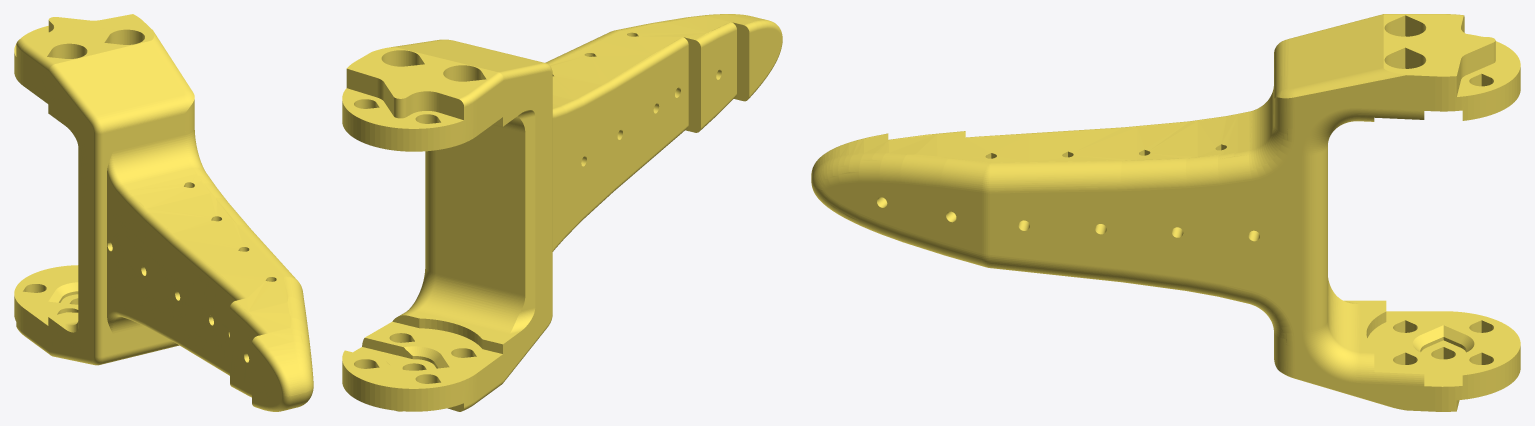
The model's file is moving_jaw_so101_v1.glb.
3 renders of one model, left to right at view 1: azimuth 30°, elevation 25°; view 2: azimuth 150°, elevation 25°; view 3: azimuth 270°, elevation 25°, orthographic. The views are drawn at different scales.
Parts seen in each view (by area): view 1: moving_jaw_so101_v1; view 2: moving_jaw_so101_v1; view 3: moving_jaw_so101_v1.
Boxes of the visible parts, box(x1,y1,x2,y2) form: moving_jaw_so101_v1: box(14, 14, 313, 411); moving_jaw_so101_v1: box(342, 14, 782, 411); moving_jaw_so101_v1: box(811, 14, 1520, 411).
Size of the model in its own units: 0.0223 by 0.048 by 0.092.
